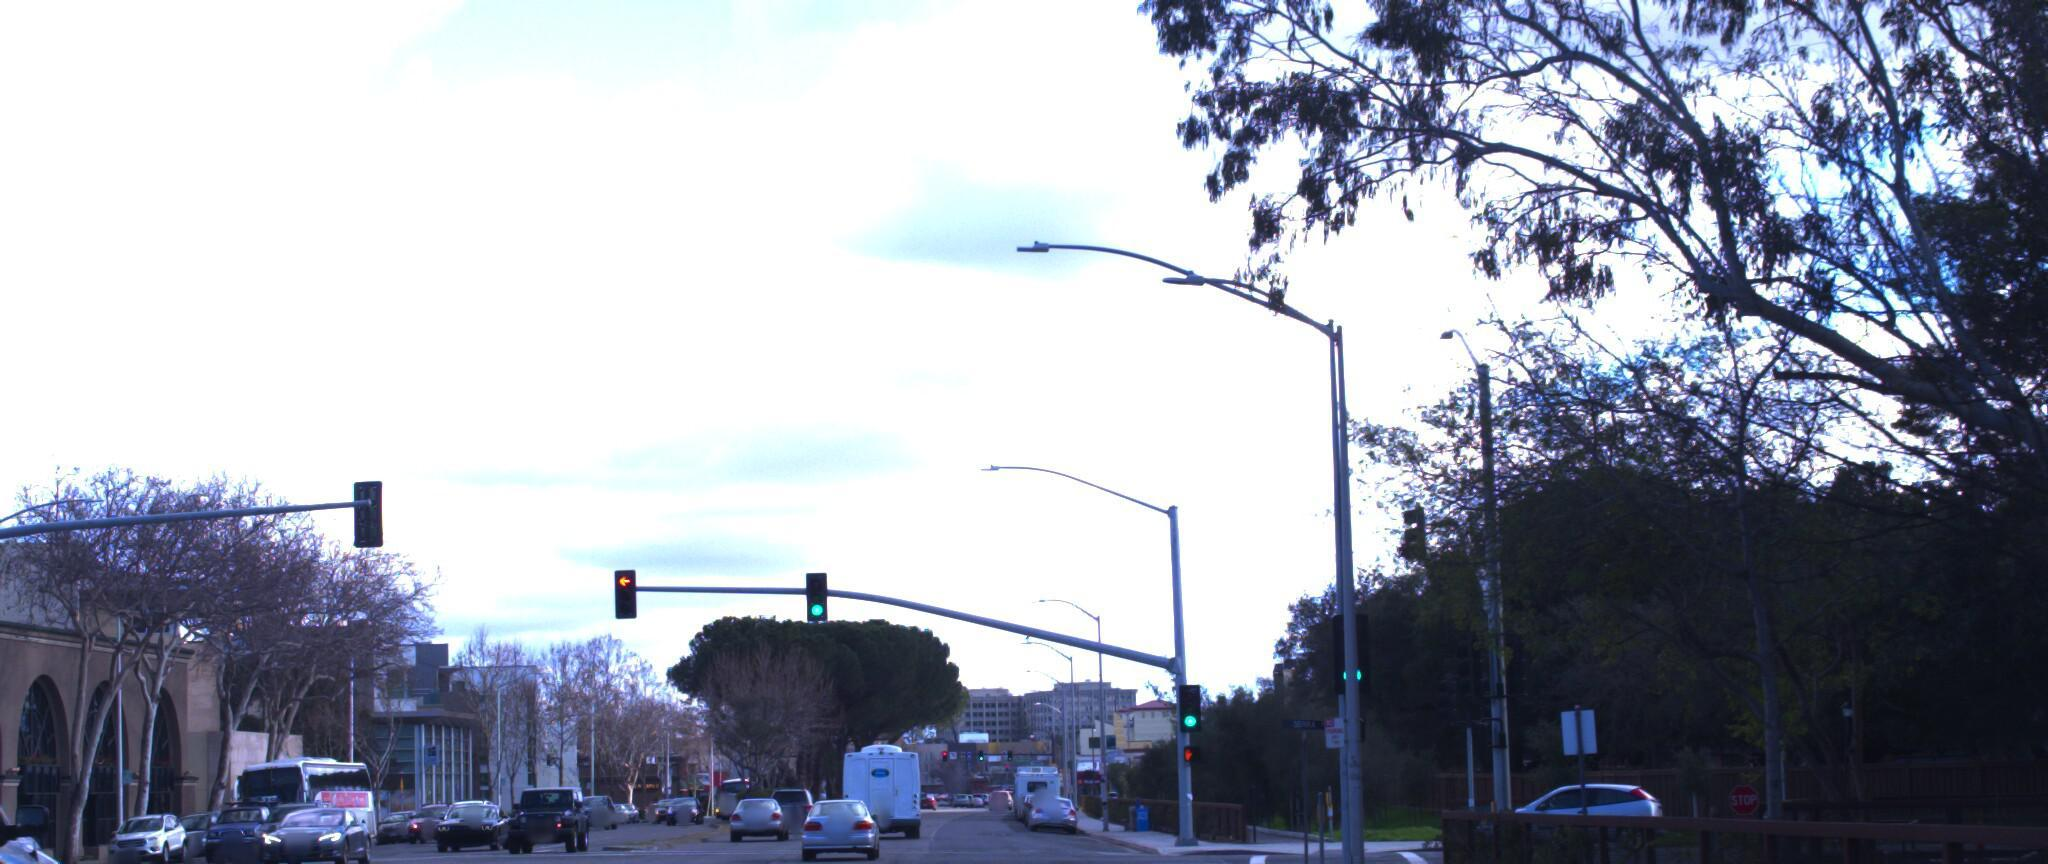car: (1455, 760, 1656, 831), (253, 773, 381, 844), (795, 774, 886, 846), (505, 764, 593, 833)
